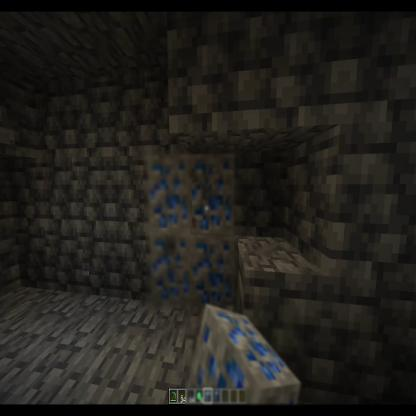lapis ore: (185, 305, 304, 416), (190, 145, 242, 239), (144, 150, 192, 232), (190, 235, 238, 316), (146, 228, 190, 310)
